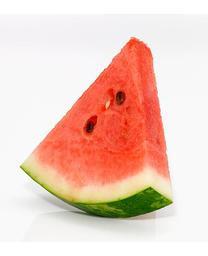watermelon: (18, 37, 176, 219)
